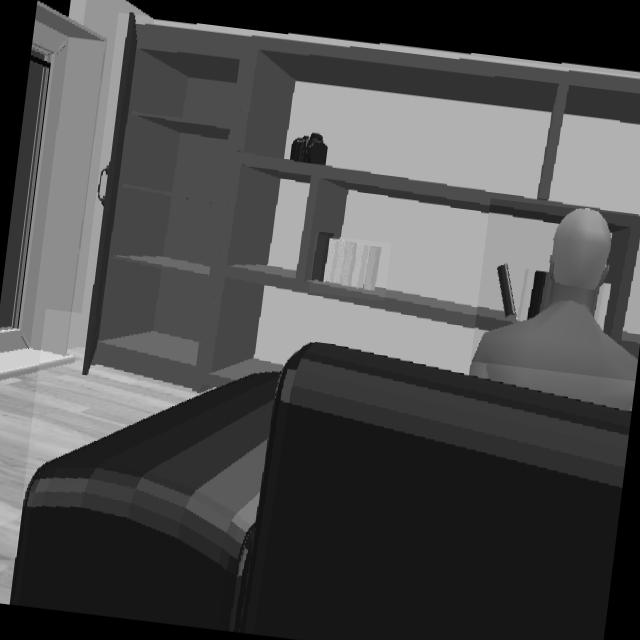book: (311, 235, 384, 301)
bookshelf: (78, 14, 640, 388)
person: (468, 210, 637, 413)
stove: (9, 342, 631, 640)
